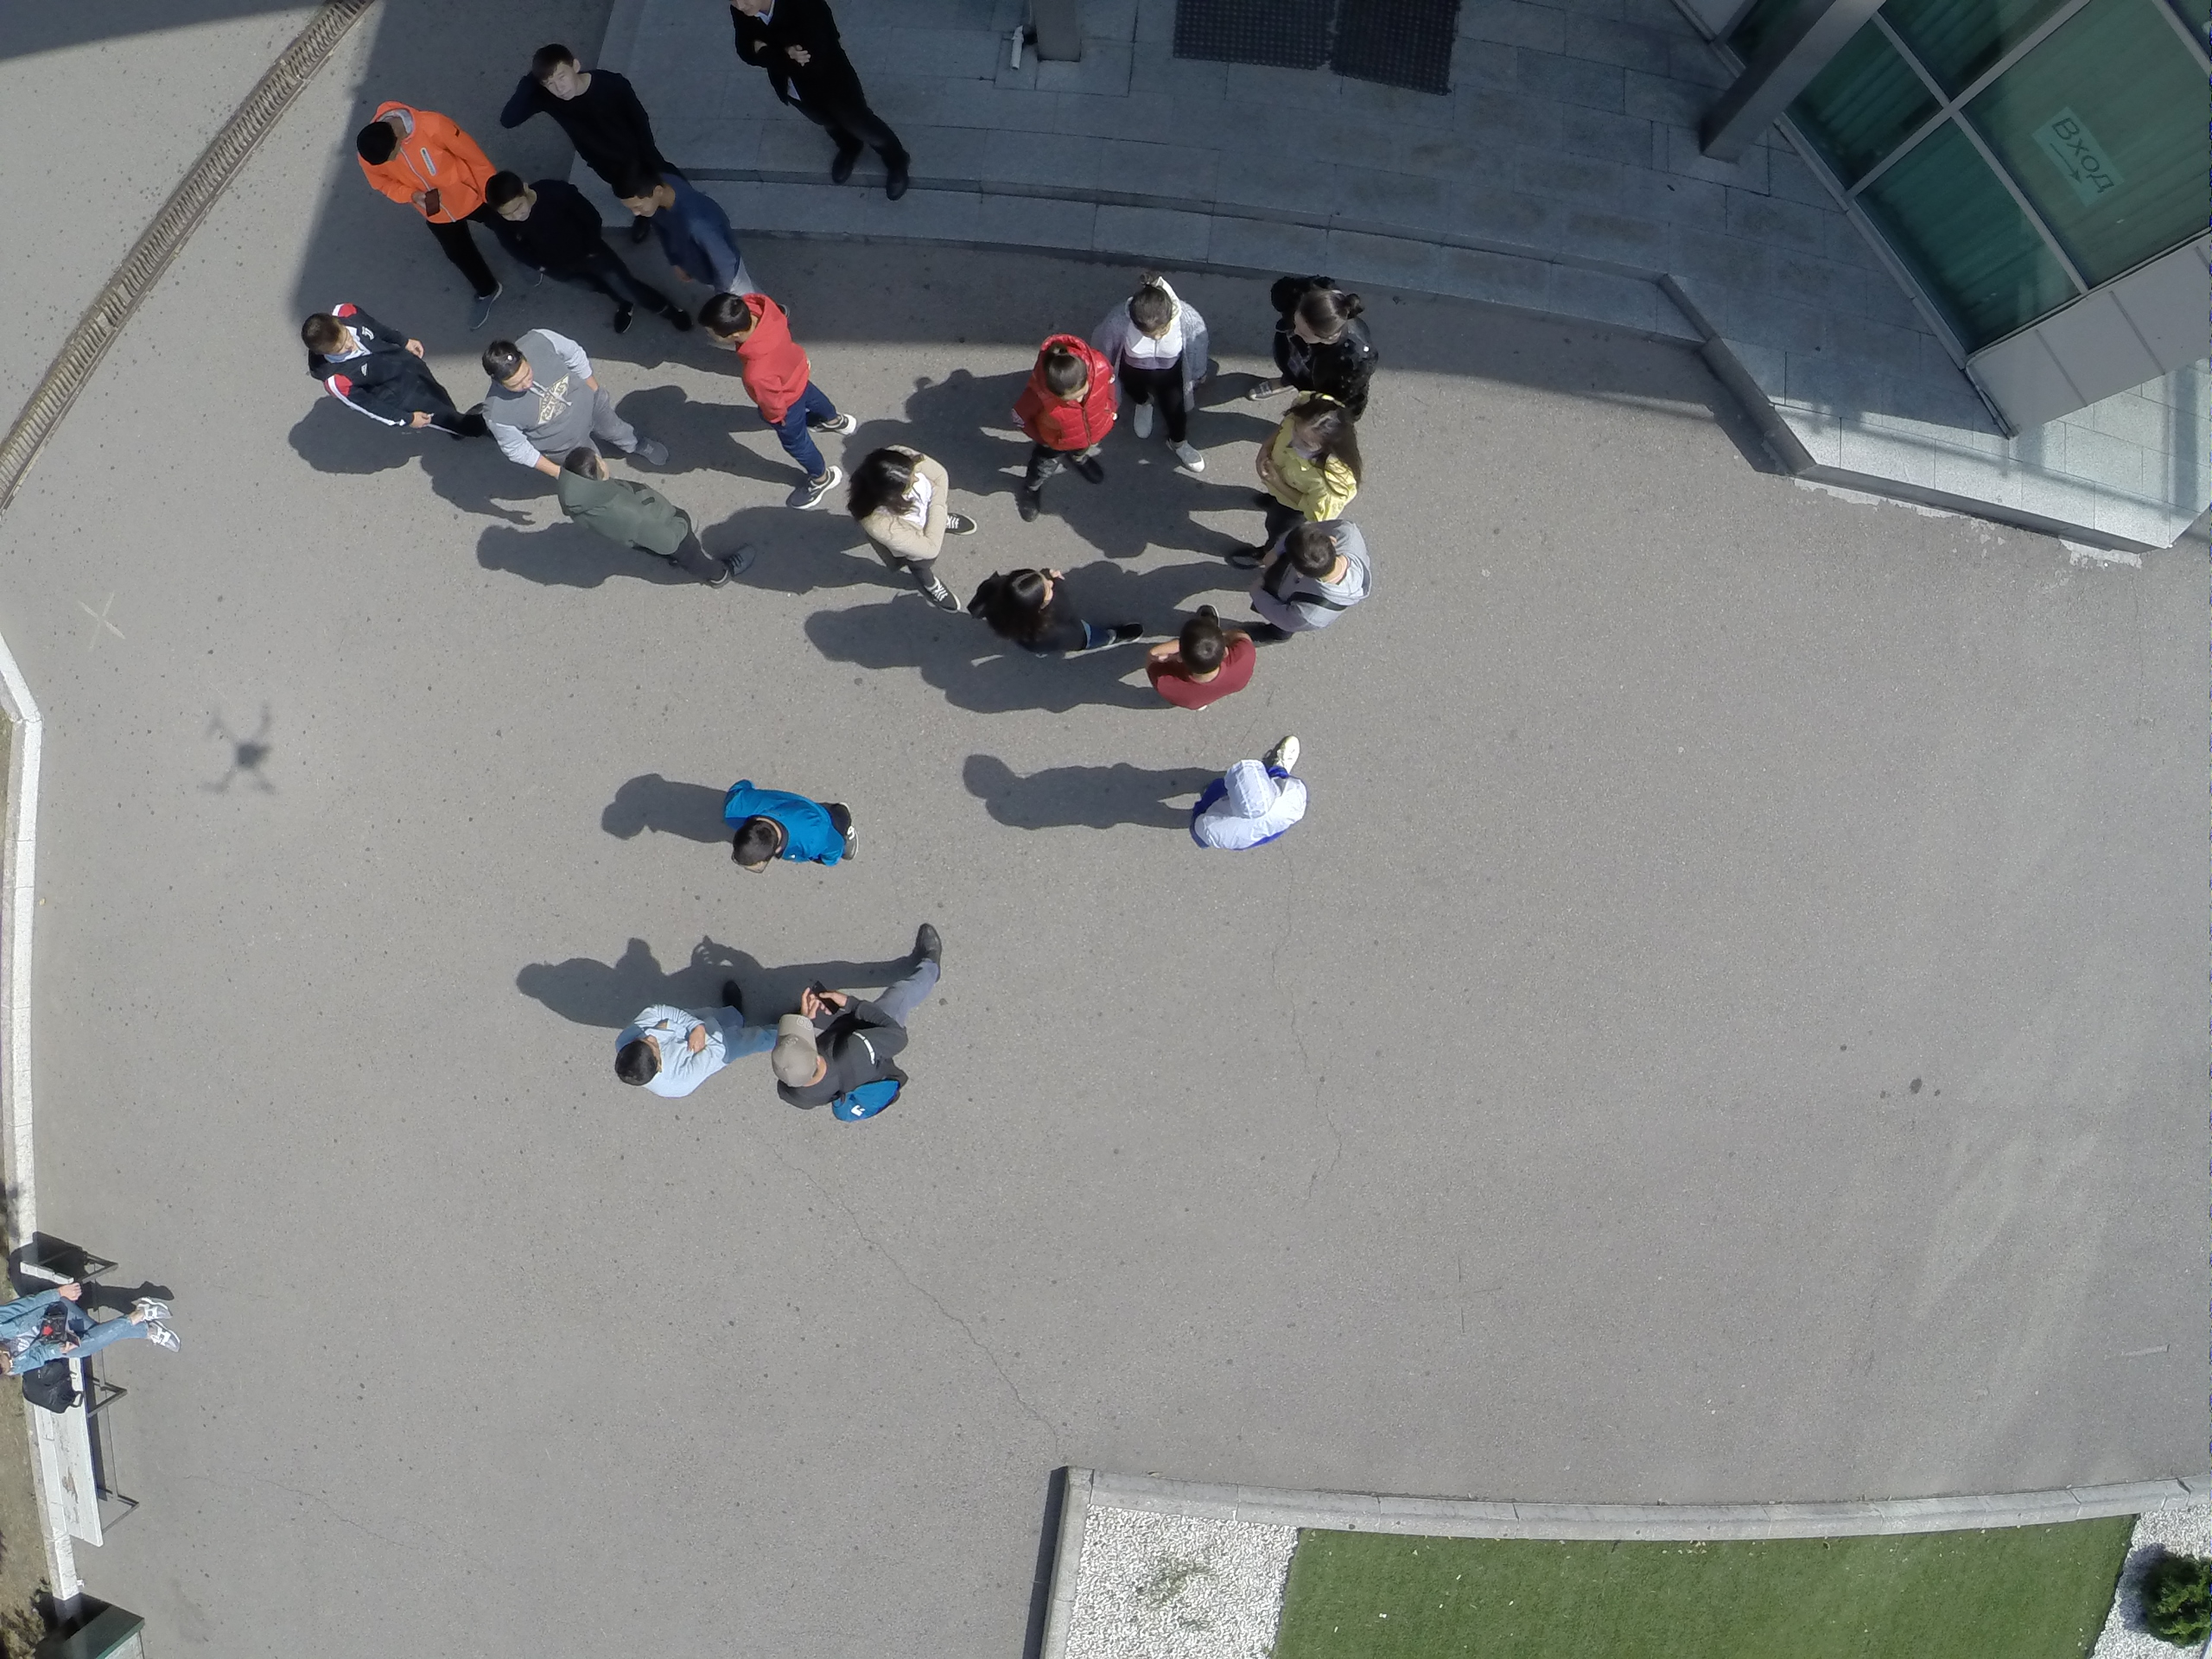person: (722, 1, 923, 207), (768, 918, 945, 1136), (699, 285, 859, 517), (461, 318, 674, 483), (544, 442, 758, 606), (478, 163, 651, 341), (359, 99, 501, 310), (297, 296, 483, 450), (842, 433, 979, 615), (585, 976, 785, 1098), (501, 26, 661, 176), (620, 140, 755, 313), (1106, 272, 1220, 474), (961, 550, 1144, 671), (707, 773, 861, 903), (1009, 326, 1116, 512), (1182, 725, 1319, 868), (1241, 499, 1368, 644), (1258, 260, 1382, 397), (1, 1281, 181, 1376), (1134, 588, 1261, 712), (1248, 397, 1370, 512)
